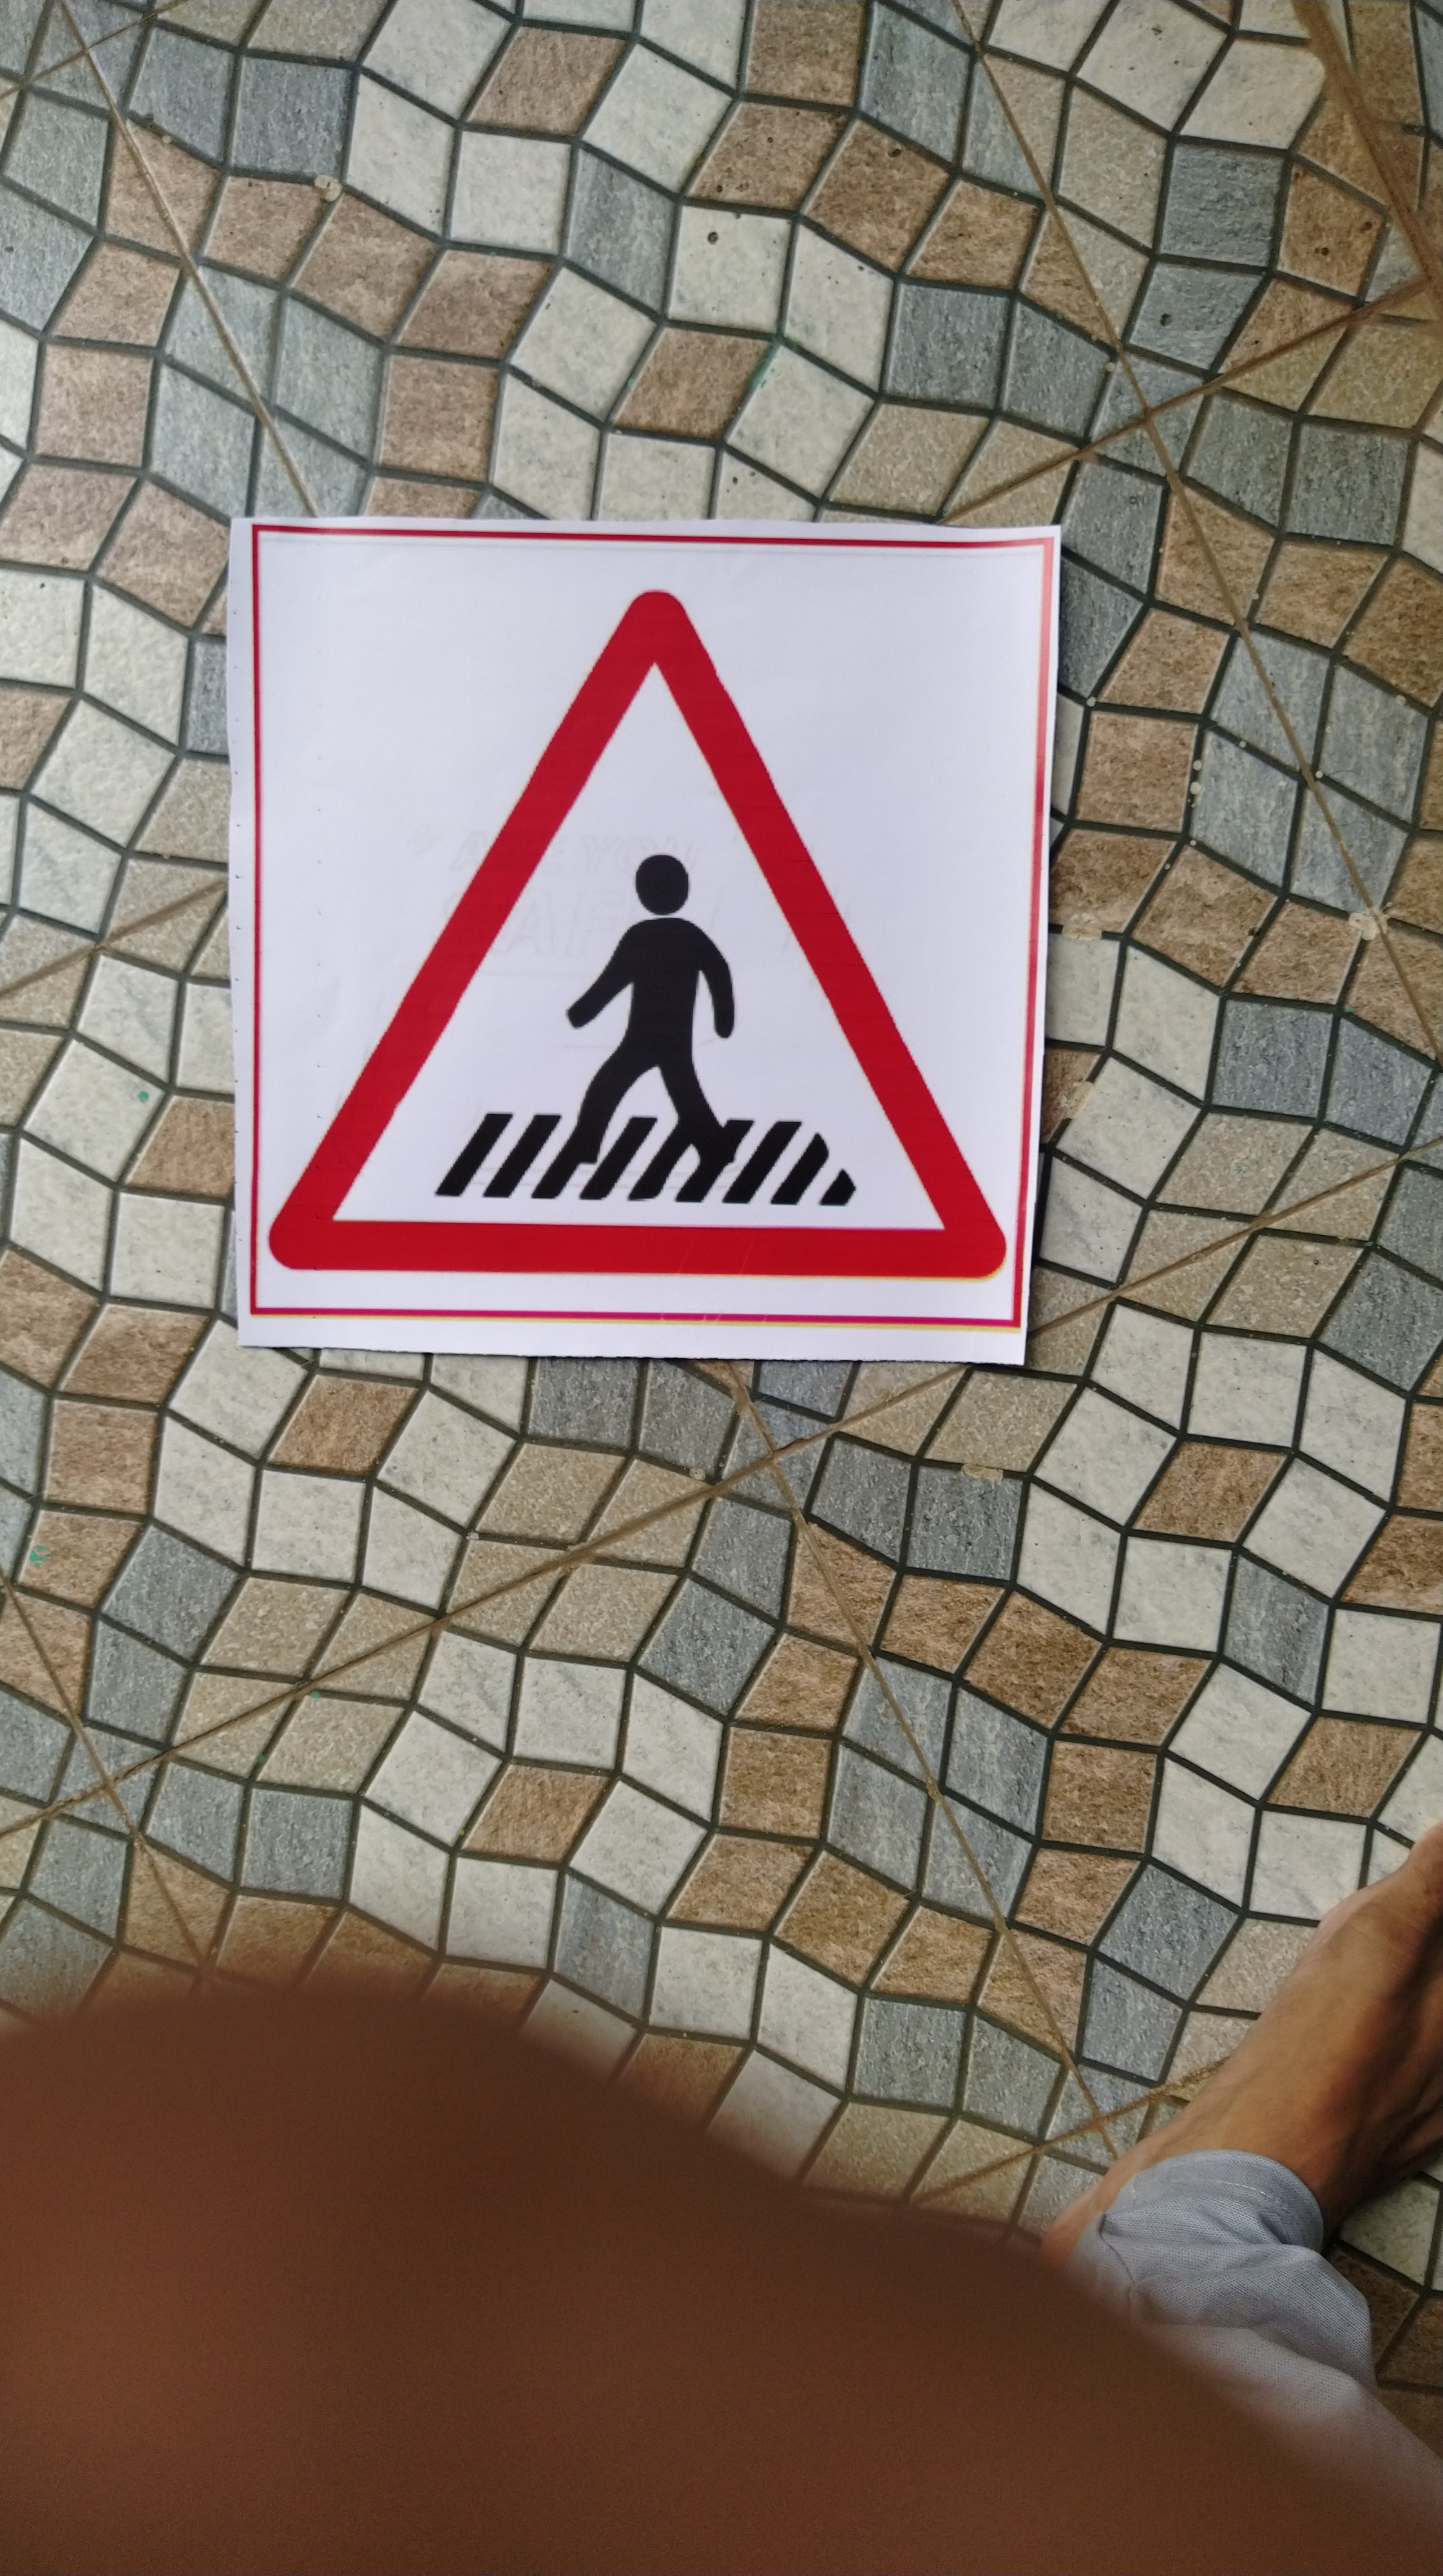pedestrain crossing: (243, 552, 967, 1316)
